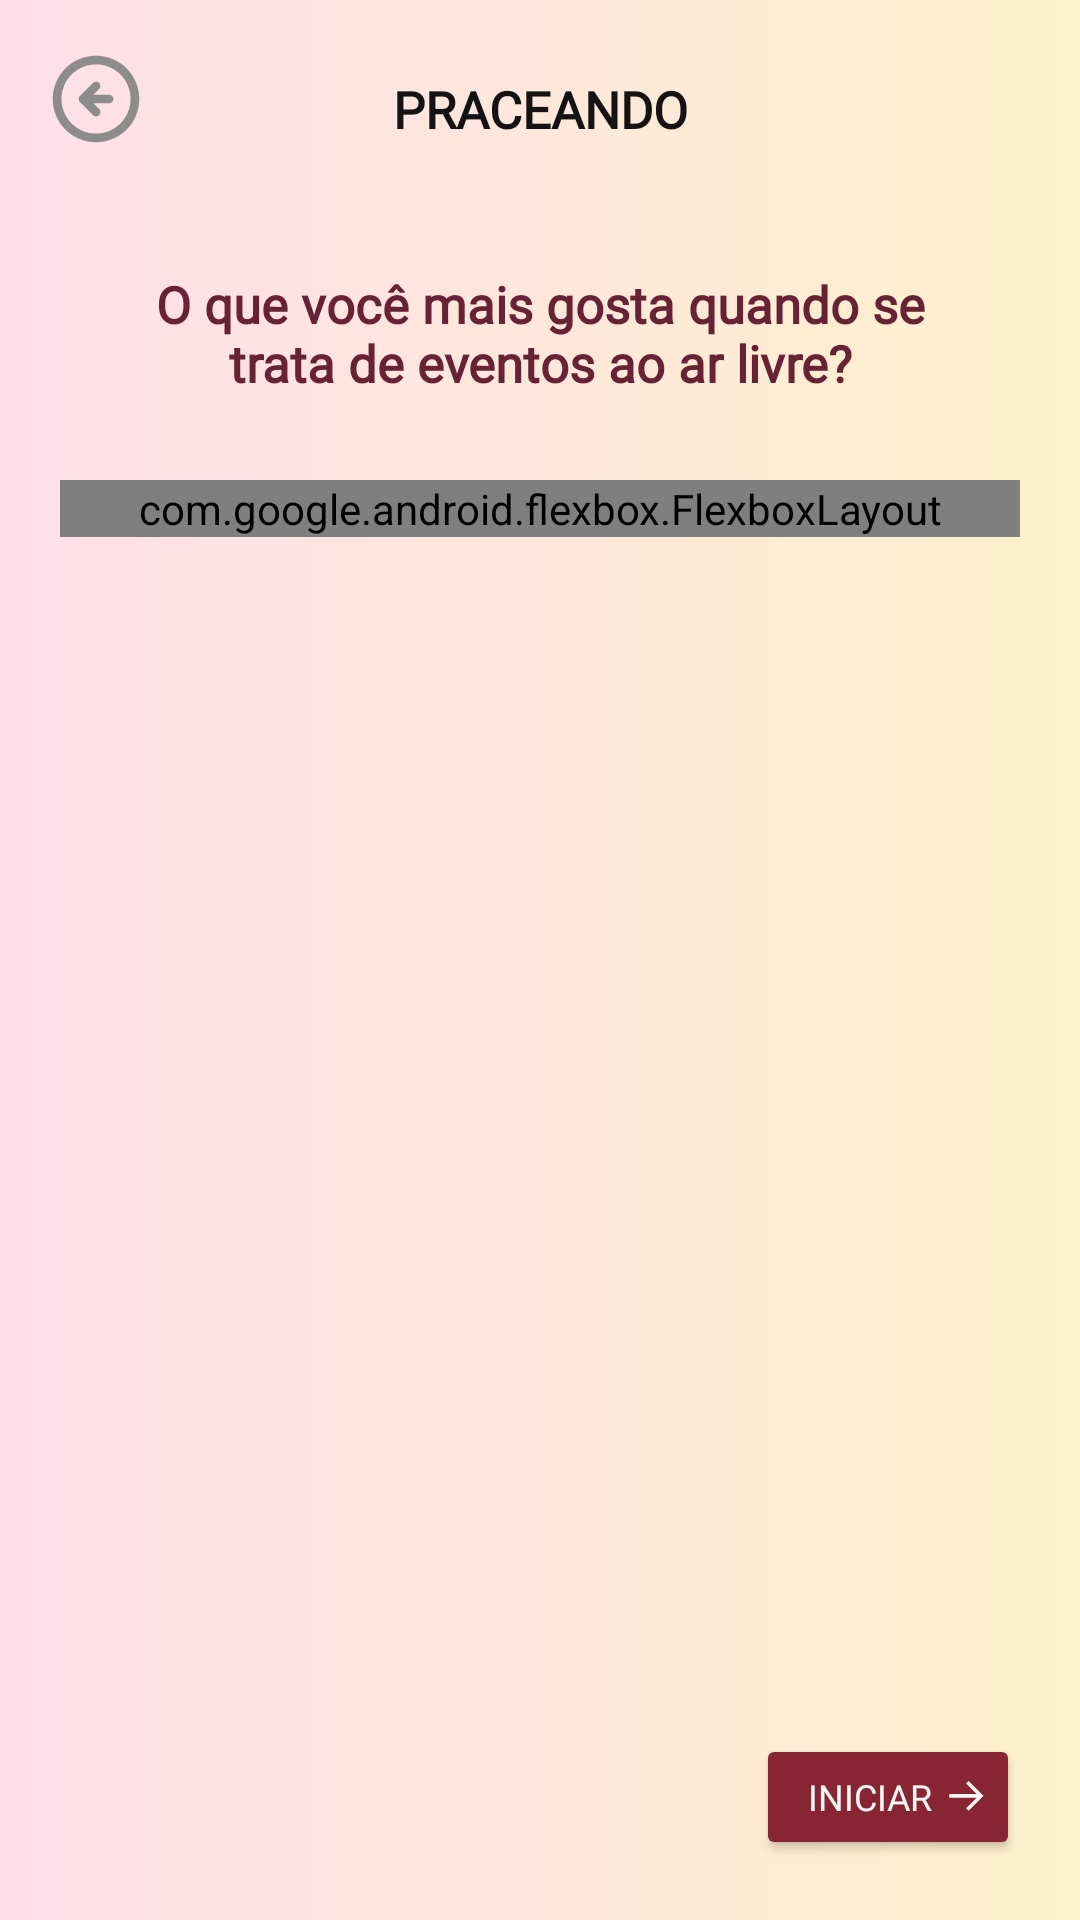

Locate icon controls on the screen. Image size 1080 × 1920, boxes as (x1, y1, x2, y2).
arrow: (52, 55, 140, 143)
